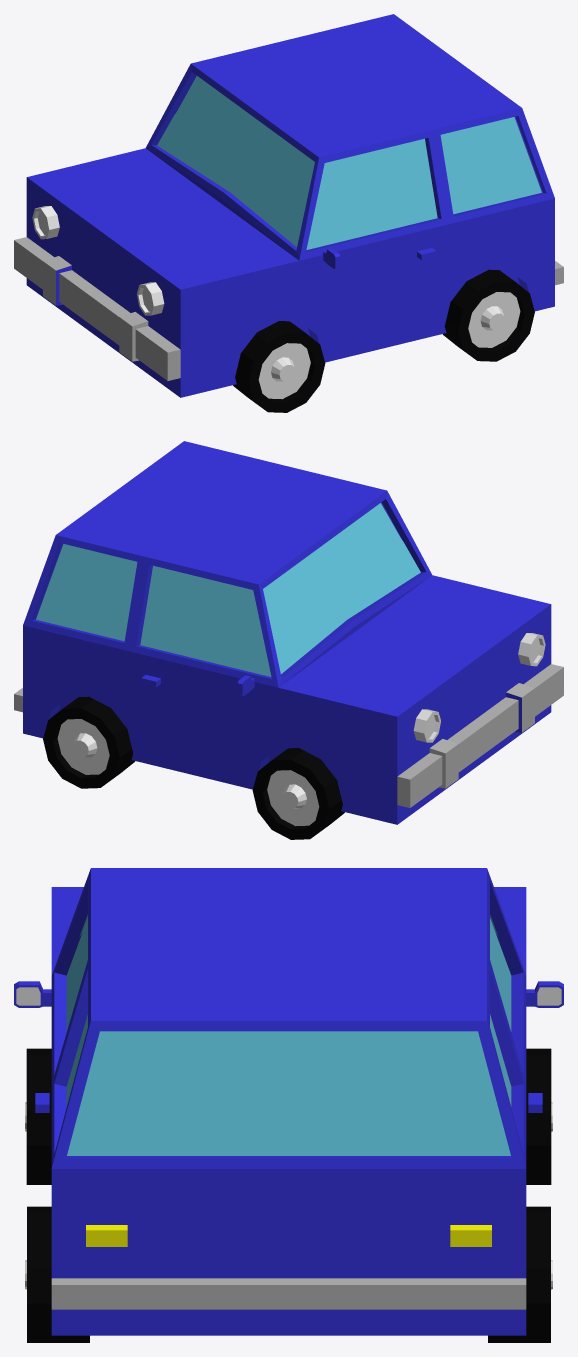
Rendered from Car.fbx.
3 views of the same model, one above another, from view 1: azimuth 30°, elevation 25°; view 2: azimuth 150°, elevation 25°; view 3: azimuth 270°, elevation 25° (orthographic). The views are drawn at different scales.
Visible parts, largest first — view 1: Cube, Cylinder.001, Cylinder.002, Cylinder; view 2: Cube, Cylinder.001, Cylinder; view 3: Cube, Cylinder.001, Cylinder.002.
Part boxes in pixels (box(x1,y1,x2,y2)): Cube: box(14, 14, 563, 397); Cylinder.001: box(233, 269, 534, 412); Cylinder.002: box(235, 293, 519, 410); Cylinder: box(32, 206, 164, 315); Cube: box(14, 441, 563, 824); Cylinder.001: box(43, 696, 344, 839); Cylinder: box(413, 633, 545, 742); Cube: box(14, 868, 563, 1335); Cylinder.001: box(25, 1048, 552, 1342); Cylinder.002: box(25, 1048, 89, 1342).
Bounding box in the file's own units: 1498 × 814 × 1158.
